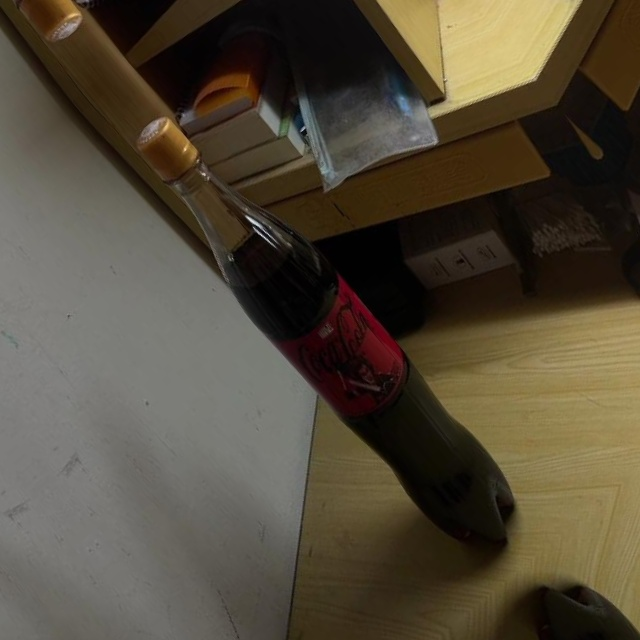Coca-Cola: (109, 91, 544, 582)
